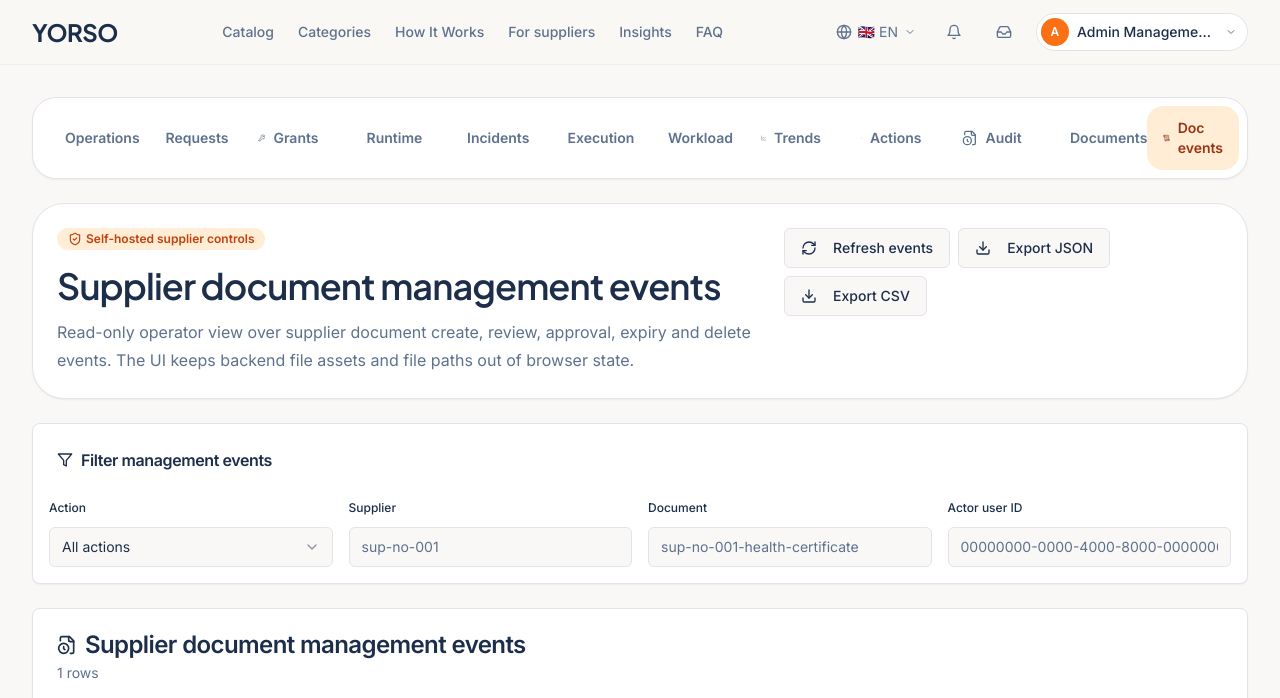
AdminSupplierDocumentManagementEvents page › renders sanitized management event rows and exports JSON/CSV
Later steps or results of the test are not shown.
Click the button with test id "admin-document-management-events-export-json": (1034, 248) [958,228,1110,268]
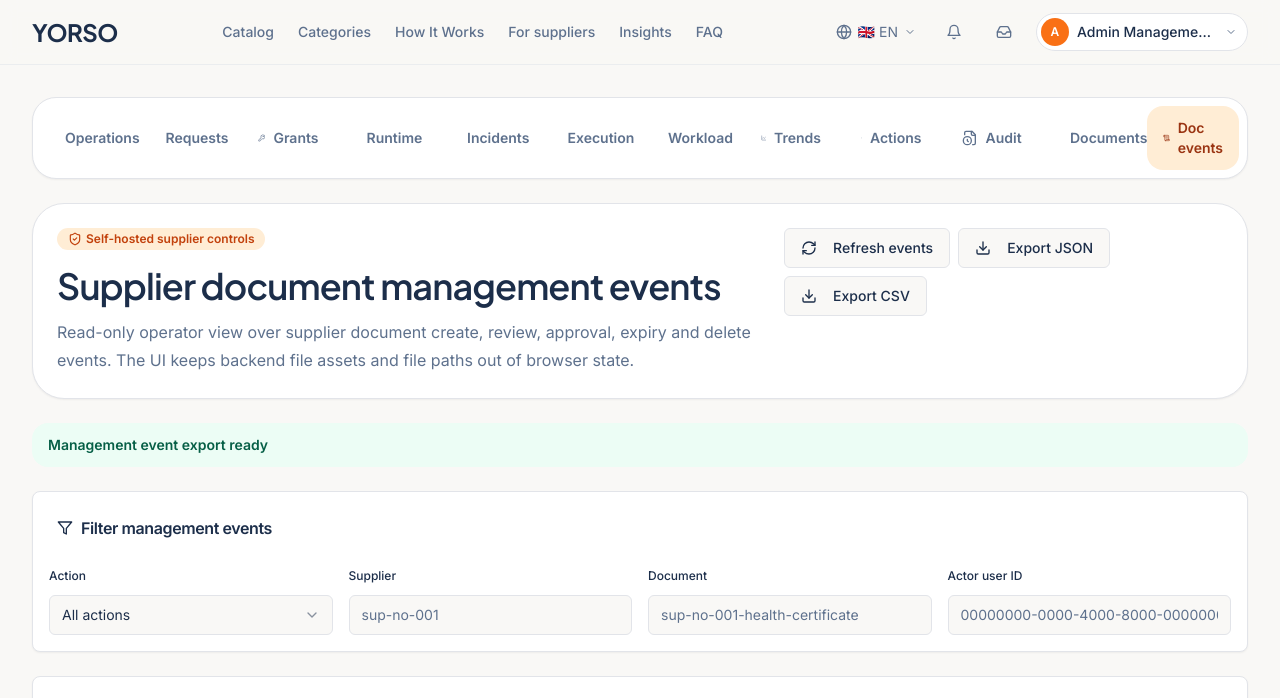
Result: the text with test id "admin-document-management-events-export-status" reads "Management event export ready" at [48,436,268,453]
